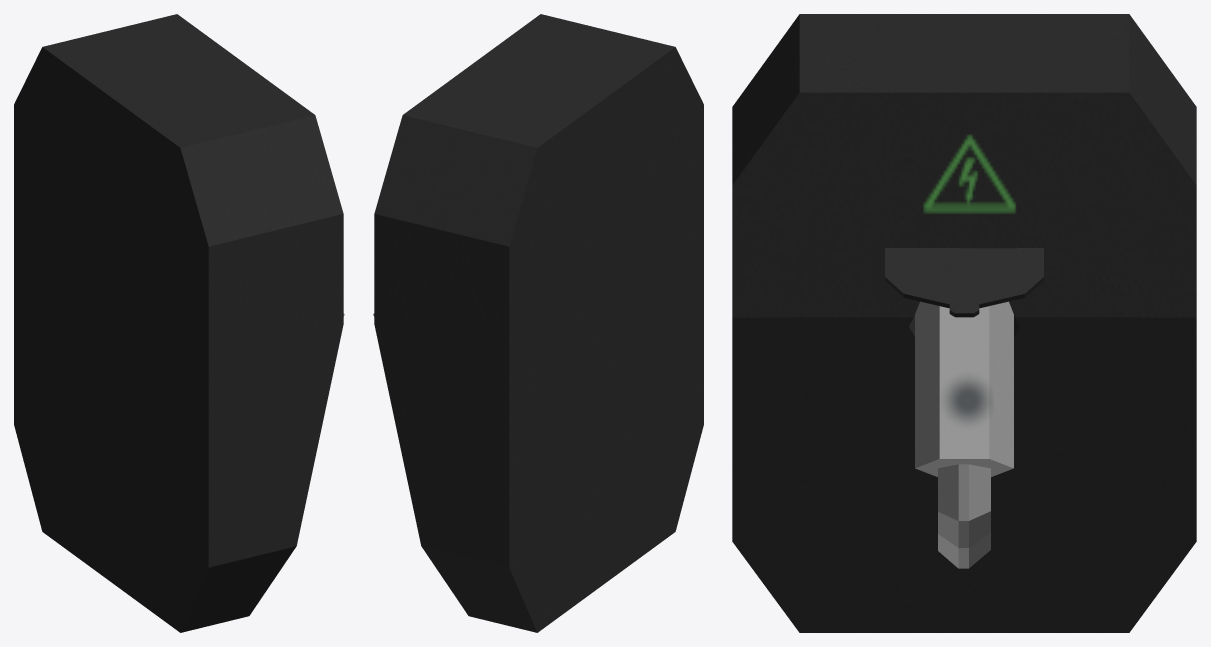
File: chargepoint.obj
The picture shows the model from 3 angles, left to right: view 1: azimuth 30°, elevation 25°; view 2: azimuth 150°, elevation 25°; view 3: azimuth 270°, elevation 25°; orthographic projection. The views are drawn at different scales.
Visible parts, largest first — view 1: p2; view 2: p2; view 3: p2, p1.
Part boxes in pixels (<box>): p2: <box>14,14,343,632</box>; p2: <box>374,14,703,632</box>; p2: <box>732,14,1196,632</box>; p1: <box>915,301,1013,568</box>.
Bounding box in the file's own units: 0.363 × 0.7541 × 0.5485.
2 materials, 2 textured.
